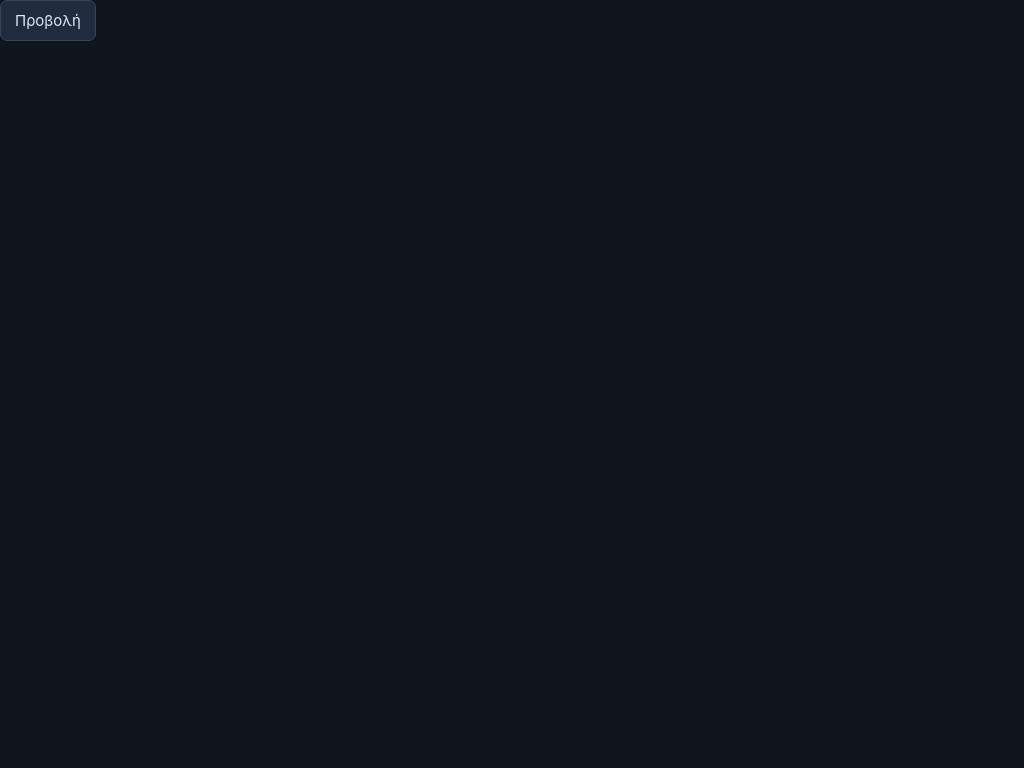
Test: safe file preview dialog › rejects foreign or arbitrary URLs without rendering an unsafe link
This screenshot has width=1024, height=768.
Click the button "Προβολή" at (48, 20), box [0,0,96,41]
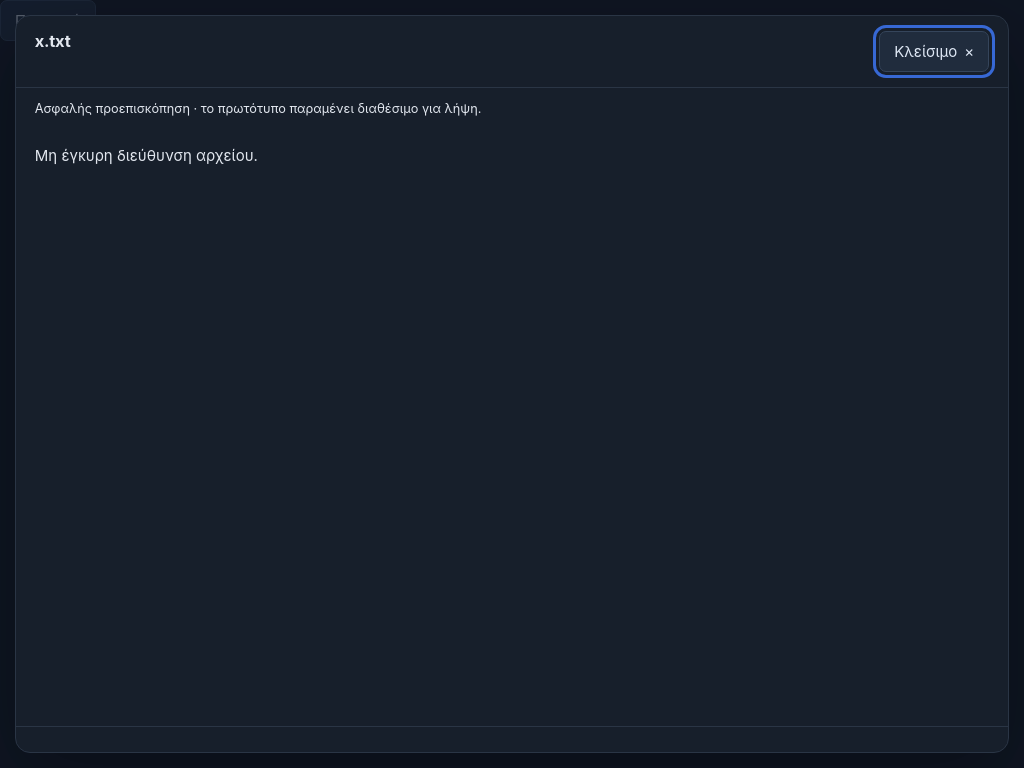
Expected: the message shows "διεύθυνση", [35,146,258,165]
